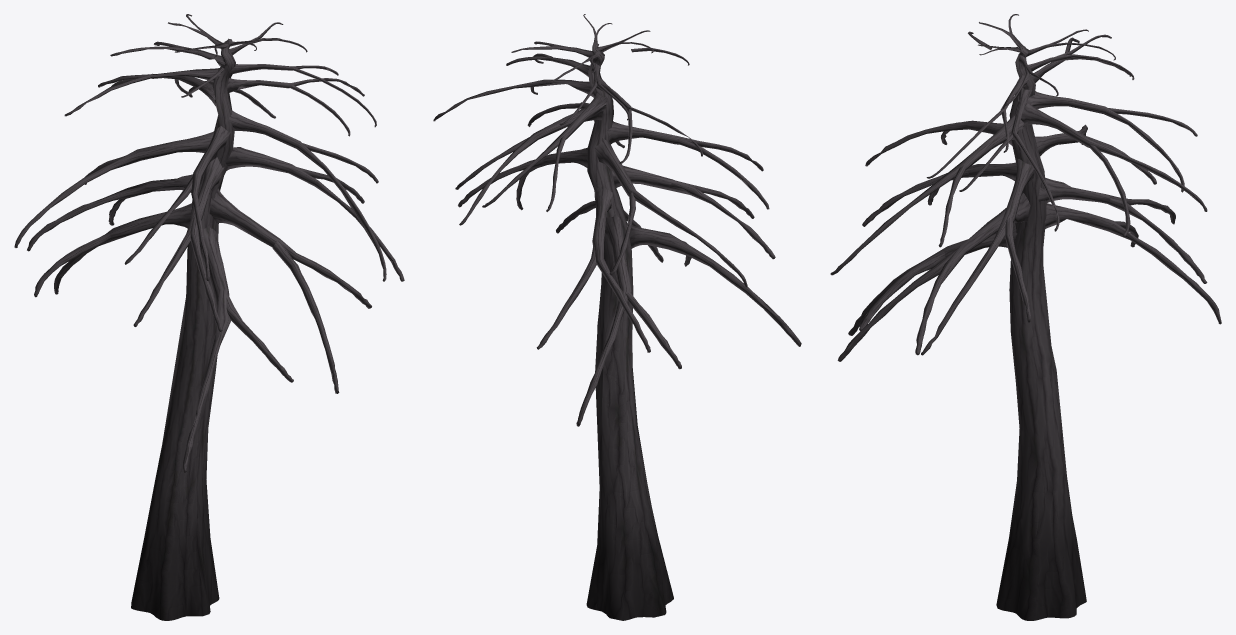
File: nature-deadtree-4.glb
3 renders of one model, left to right at view 1: azimuth 30°, elevation 25°; view 2: azimuth 150°, elevation 25°; view 3: azimuth 270°, elevation 25°, orthographic. The views are drawn at different scales.
Parts seen in each view (by area): view 1: DeadTree_4; view 2: DeadTree_4; view 3: DeadTree_4.
Boxes of the visible parts, box(x1,y1,x2,y2) form: DeadTree_4: box(14, 14, 404, 620); DeadTree_4: box(433, 14, 801, 620); DeadTree_4: box(830, 14, 1221, 620).
Size of the model in its own units: 7.96 by 12.77 by 7.72.
1 material, 1 textured.
